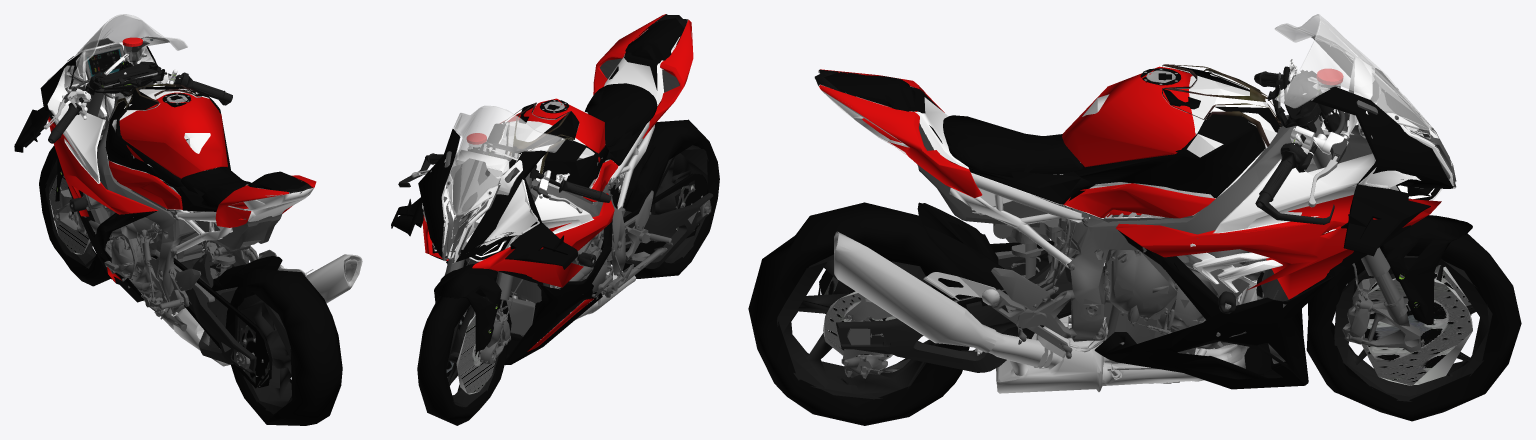
The model's file is moto.glb.
3 renders of one model, left to right at view 1: azimuth 30°, elevation 25°; view 2: azimuth 150°, elevation 25°; view 3: azimuth 270°, elevation 25°, orthographic. The views are drawn at different scales.
Parts seen in each view (by area): view 1: GLTF_created_0, wheel_lr.child_79, wheel_lf.child_78; view 2: GLTF_created_0, wheel_lf.child_78, wheel_lr.child_79; view 3: GLTF_created_0, wheel_lr.child_79, wheel_lf.child_78.
Boxes of the visible parts, x1,y1,x2,y2 form: GLTF_created_0: (14, 14, 362, 388); wheel_lr.child_79: (225, 269, 342, 425); wheel_lf.child_78: (39, 145, 111, 286); GLTF_created_0: (391, 14, 713, 394); wheel_lf.child_78: (417, 288, 511, 425); wheel_lr.child_79: (615, 119, 719, 278); GLTF_created_0: (814, 14, 1472, 393); wheel_lr.child_79: (748, 202, 969, 425); wheel_lf.child_78: (1306, 233, 1521, 421).
Size of the model in its own units: 0.8106 by 1.18 by 2.07.
Materials: 59 (33 with a texture image).
